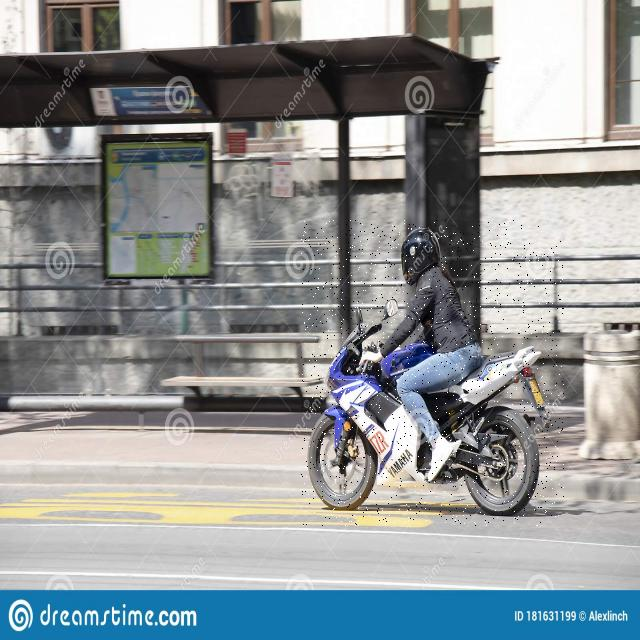With Helmet: (301, 220, 564, 526)
